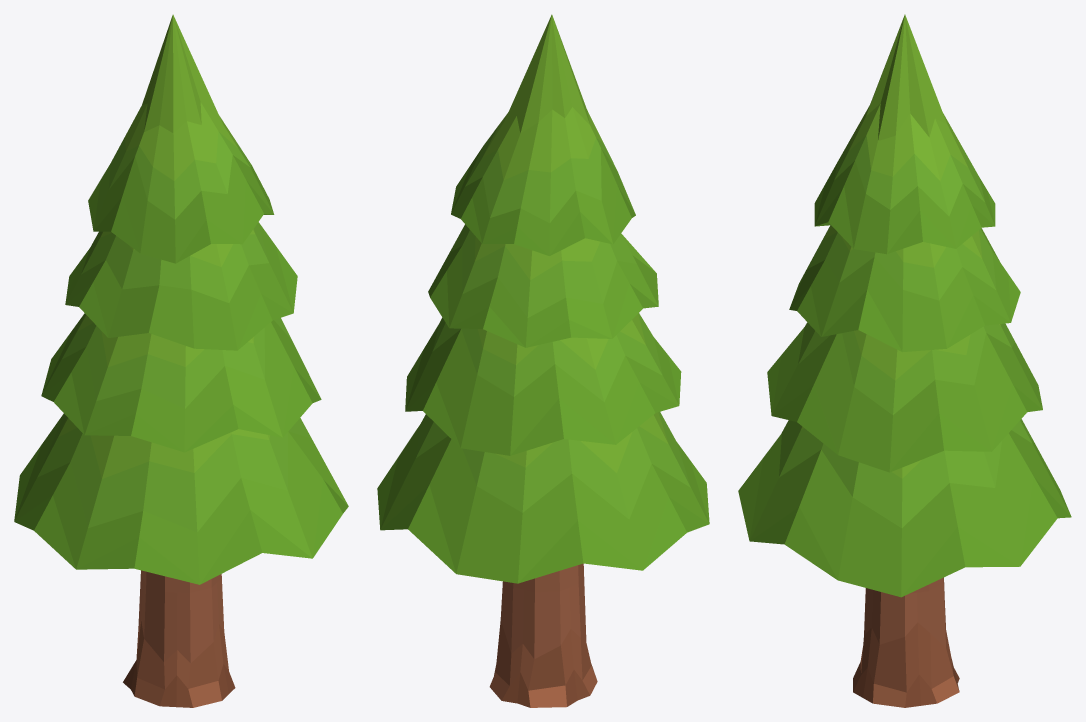
3 views of the same model, side by side, from view 1: azimuth 30°, elevation 25°; view 2: azimuth 150°, elevation 25°; view 3: azimuth 270°, elevation 25° (orthographic).
Visible parts, largest first — view 1: Listva, Stvol; view 2: Listva, Stvol; view 3: Listva, Stvol.
Boxes of the visible parts, x1,y1,x2,y2 form: Listva: (14, 14, 348, 584); Stvol: (123, 570, 235, 707); Listva: (377, 14, 709, 583); Stvol: (489, 563, 597, 707); Listva: (738, 14, 1071, 597); Stvol: (853, 577, 959, 707).
Size of the model in its own units: 4.08 by 9 by 4.08.
1 material, 1 textured.
